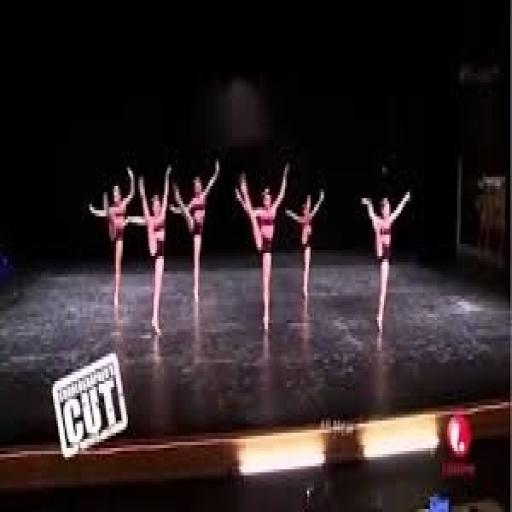dancing: (232, 156, 294, 338), (124, 162, 176, 338), (358, 183, 415, 338), (169, 155, 224, 308), (87, 162, 138, 304), (283, 183, 328, 305)
